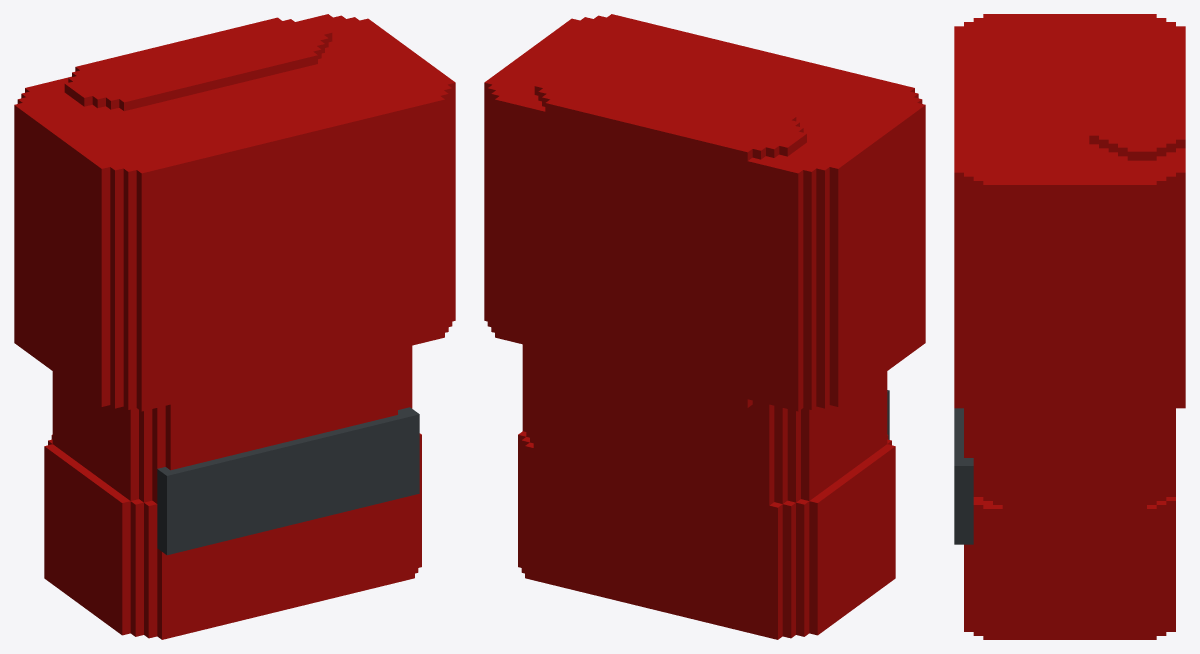
File: worn_hoodie_body.glb
3 views of the same model, side by side, from view 1: azimuth 30°, elevation 25°; view 2: azimuth 150°, elevation 25°; view 3: azimuth 270°, elevation 25° (orthographic).
Visible parts, largest first — view 1: garment:compound; view 2: garment:compound; view 3: garment:compound.
Boxes of the visible parts, x1,y1,x2,y2 form: garment:compound: (14, 14, 455, 639); garment:compound: (484, 14, 925, 639); garment:compound: (954, 14, 1185, 639).
Size of the model in its own units: 0.42 by 0.55 by 0.24.
